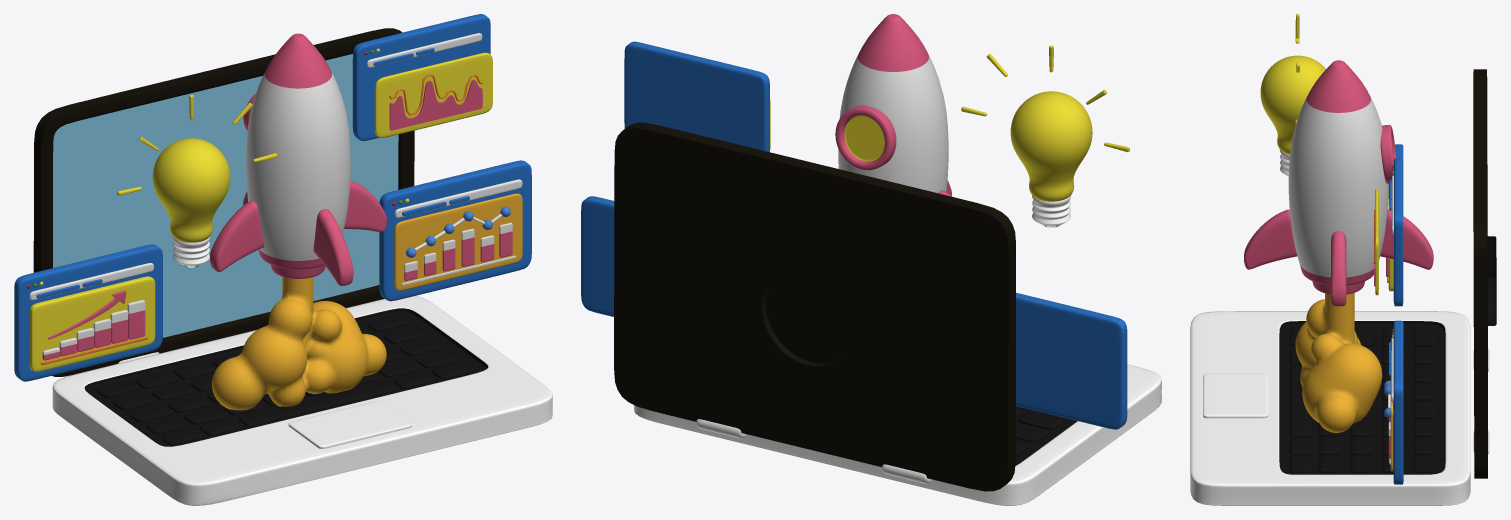
Rendered from intellectual-property-3d-animated-icon-246821503019.glb.
3 renders of one model, left to right at view 1: azimuth 30°, elevation 25°; view 2: azimuth 150°, elevation 25°; view 3: azimuth 270°, elevation 25°, orthographic. The views are drawn at different scales.
Parts seen in each view (by area): view 1: Plane.001, Plane.007, Cylinder, Mball.003, Cube.003, Cube.011, Plane.019, Sphere.007, Cube.023, Plane.021, Plane.015, Plane.023 (+7 smaller); view 2: Plane.007, Cube.011, Cylinder, Cube.023, Plane.001, Sphere.007, Cube.003, Circle.002, Cylinder.001, Sphere.006; view 3: Plane.001, Cylinder, Mball.003, Plane.007, Plane.015, Sphere.007, Cube.003, Cube.023, Circle.001, Circle.002, Plane.023, Plane.019.
Part boxes in pixels (x1=…): Plane.001: x1=52, y1=296, x2=552, y2=505; Plane.007: x1=33, y1=28, x2=414, y2=376; Cylinder: x1=246, y1=33, x2=350, y2=278; Mball.003: x1=212, y1=276, x2=386, y2=410; Cube.003: x1=379, y1=160, x2=531, y2=301; Cube.011: x1=14, y1=244, x2=162, y2=381; Plane.019: x1=394, y1=193, x2=522, y2=290; Sphere.007: x1=152, y1=138, x2=230, y2=242; Cube.023: x1=352, y1=14, x2=490, y2=141; Plane.021: x1=29, y1=276, x2=155, y2=371; Plane.015: x1=210, y1=180, x2=386, y2=285; Plane.023: x1=374, y1=52, x2=492, y2=137; Plane.007: x1=614, y1=122, x2=1015, y2=491; Cube.011: x1=1016, y1=292, x2=1127, y2=429; Cylinder: x1=838, y1=14, x2=948, y2=193; Cube.023: x1=624, y1=41, x2=769, y2=152; Plane.001: x1=634, y1=364, x2=1161, y2=505; Sphere.007: x1=1010, y1=91, x2=1092, y2=201; Cube.003: x1=581, y1=196, x2=614, y2=316; Circle.002: x1=835, y1=105, x2=896, y2=170; Cylinder.001: x1=696, y1=419, x2=932, y2=483; Sphere.006: x1=1032, y1=195, x2=1071, y2=227; Plane.001: x1=1190, y1=311, x2=1470, y2=505; Cylinder: x1=1288, y1=60, x2=1388, y2=294; Mball.003: x1=1295, y1=293, x2=1382, y2=432; Plane.007: x1=1473, y1=69, x2=1487, y2=478; Plane.015: x1=1244, y1=209, x2=1433, y2=306; Sphere.007: x1=1260, y1=55, x2=1325, y2=154; Cube.003: x1=1393, y1=320, x2=1403, y2=484; Cube.023: x1=1394, y1=158, x2=1402, y2=306; Circle.001: x1=1487, y1=236, x2=1496, y2=325; Circle.002: x1=1380, y1=125, x2=1396, y2=183; Plane.023: x1=1375, y1=189, x2=1378, y2=295; Plane.019: x1=1390, y1=351, x2=1393, y2=471.
Bounding box in the file's own units: 8.9 × 6.17 × 4.8.
